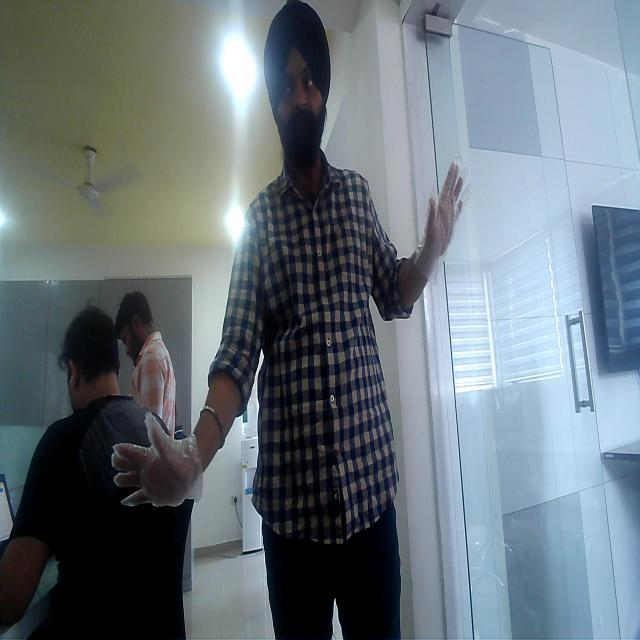with_gloves: (68, 395, 222, 539), (408, 152, 478, 254)
